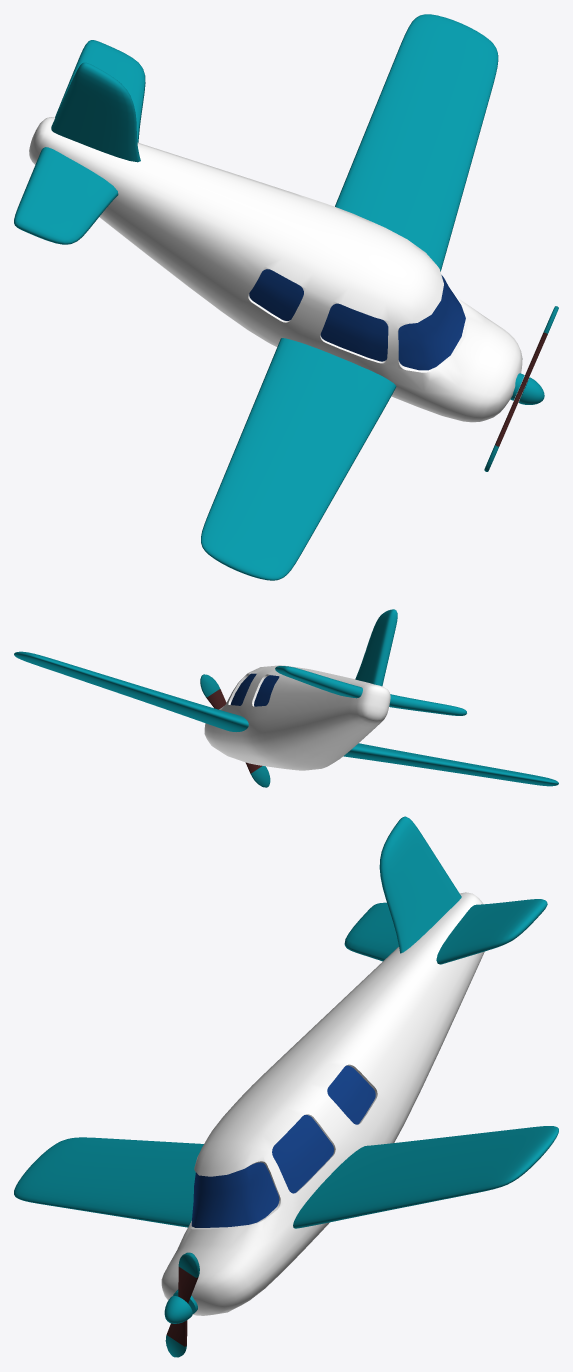
Rendered from small_airplane.glb.
3 views of the same model, one above another, from view 1: azimuth 30°, elevation 25°; view 2: azimuth 150°, elevation 25°; view 3: azimuth 270°, elevation 25° (orthographic). The views are drawn at different scales.
Parts seen in each view (by area): view 1: Cube.790, Cube.793, Cube.791, Cube.792, Cube.794; view 2: Cube.790, Cube.793, Cube.791, Cube.792, Cube.794; view 3: Cube.790, Cube.793, Cube.792, Cube.791, Cube.794, Sphere.506.
Boxes of the visible parts, x1,y1,x2,y2 form: Cube.790: (29,117,522,422); Cube.793: (201,14,498,580); Cube.791: (14,40,145,244); Cube.792: (51,62,140,162); Cube.794: (484,306,558,471); Cube.790: (204,665,390,770); Cube.793: (14,651,558,786); Cube.791: (275,666,466,715); Cube.792: (355,609,397,686); Cube.794: (200,674,270,787); Cube.790: (161,892,484,1315); Cube.793: (14,1126,558,1228); Cube.792: (379,816,461,953); Cube.791: (344,899,547,964); Cube.794: (165,1252,199,1357); Sphere.506: (164,1289,197,1323).
Bounding box in the file's own units: 2.55 × 1.76 × 2.18.
Materials: 1 (1 with a texture image).
